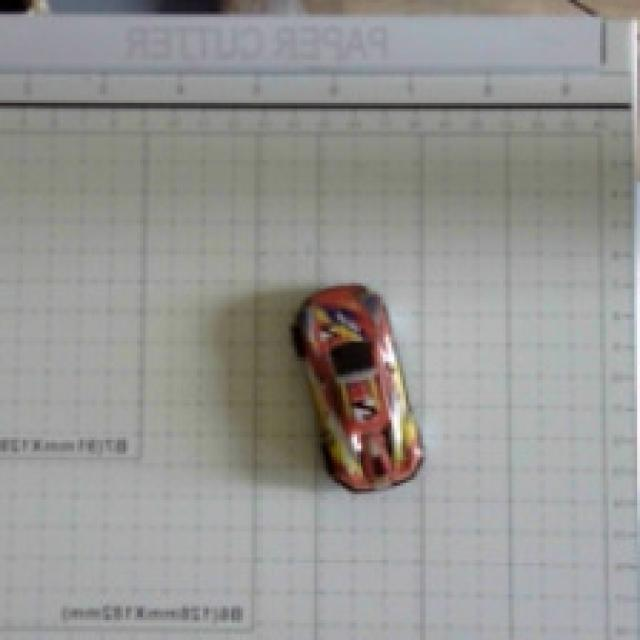Red Car: (256, 232, 454, 517)
